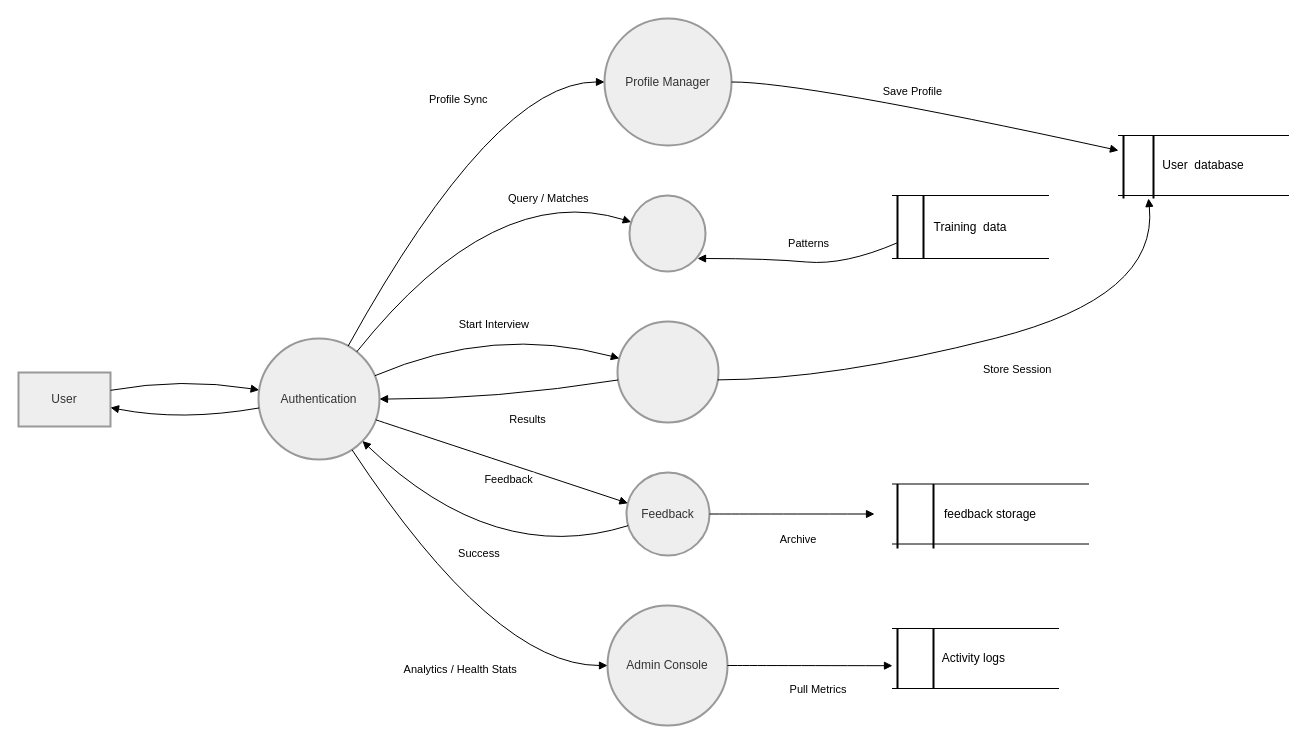
Some shapes in this 1306 by 743 pixel diagram are drawn without their labels. Each missing label, with the centre of its shape:
AI Interview: (x=667, y=371)
AI Model: (x=667, y=233)
